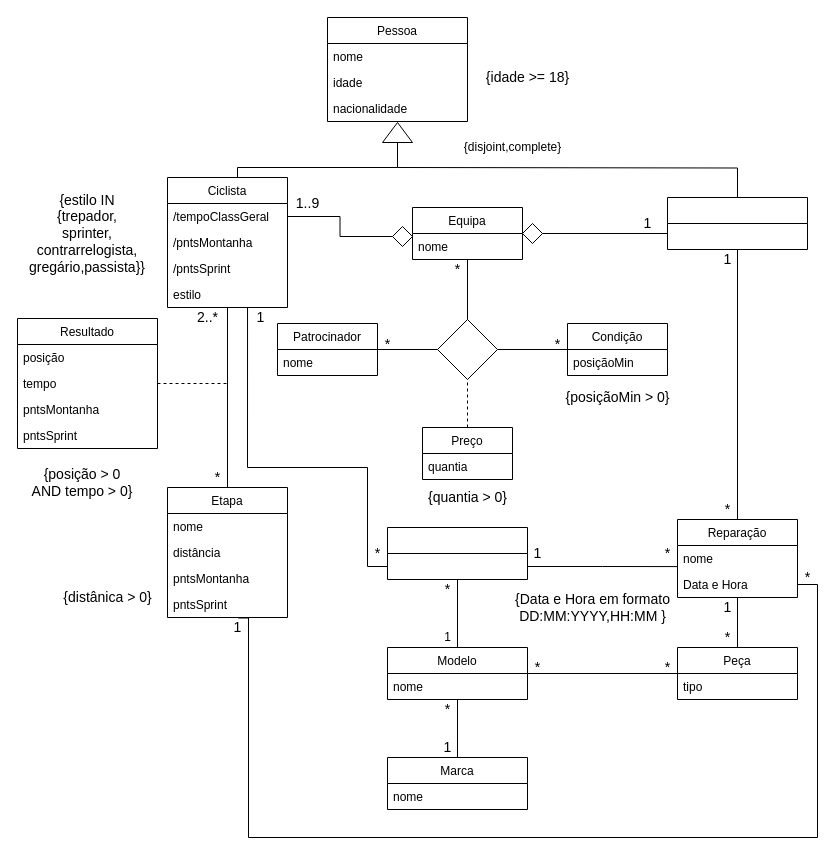
This 836x856 diagram has some shape labels left out. Here are the shapes that lost their labels. From the top down, the centre of each, then its label:
(737,223): Mecânico
(457,553): Bicicleta
